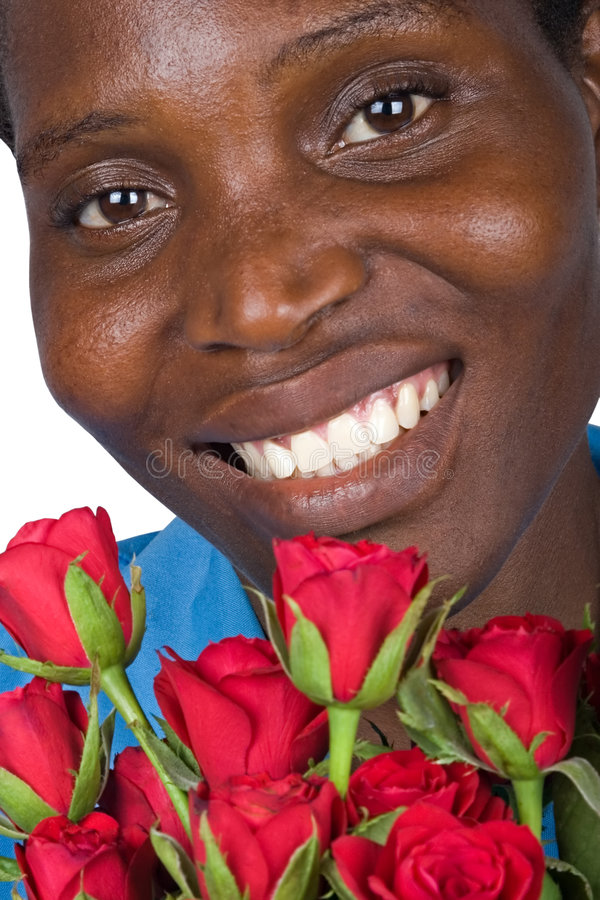RedRose: (413, 579, 600, 780), (258, 512, 434, 710), (157, 626, 338, 787), (0, 500, 140, 685), (342, 792, 553, 900), (172, 768, 330, 900), (22, 774, 137, 900), (0, 671, 101, 814), (327, 742, 482, 825), (86, 739, 201, 849)
